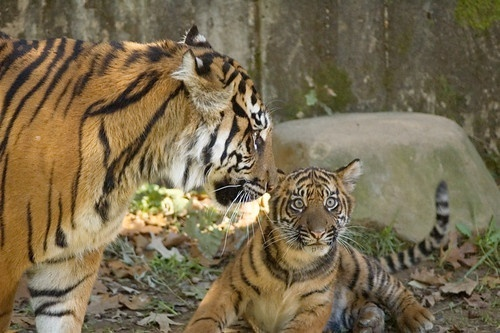tigre: (1, 19, 282, 333), (175, 155, 468, 332)
